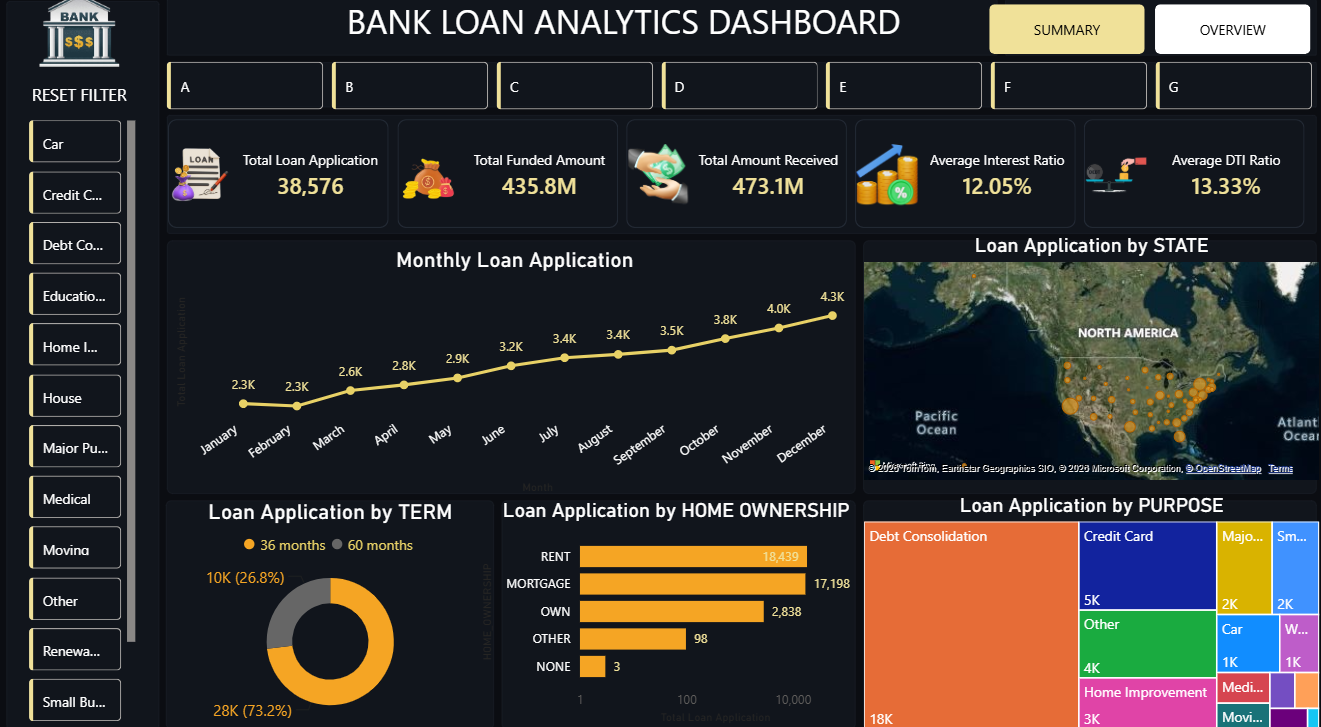

Layout of this report page (visuals, bound fields, positions):
{"tool":"powerbi","page":{"name":"OVERVIEW","canvas":[1280,720],"ordinal":1},"visuals":[{"type":"cardVisual","fields":{"Data":["financial_loan.TOTAL LOAN APPLICATION","financial_loan.TOTAL FUNDED AMOUNT","financial_loan.TOTAL RECEIVED","financial_loan.AVERAGE INTEREST RATE","financial_loan.AVERAGE DTI RATE"]},"box":[147.2,105,1132.8,139.9],"z":0},{"type":"image","box":[9.7,0,137.5,71.2],"z":11000},{"type":"advancedSlicerVisual","fields":{"Values":["financial_loan.GRADE"]},"box":[158,61.5,1122,56.7],"z":12000},{"type":"advancedSlicerVisual","fields":{"Values":["financial_loan.PURPOSE"]},"box":[25.3,118.2,112.2,592.4],"z":13000},{"type":"actionButton","box":[9.7,77.2,137.5,41],"z":14000},{"type":"textbox","box":[331.8,0,604.4,61.5],"z":15000},{"type":"pageNavigator","box":[956.7,10.9,311.3,48.3],"z":15001},{"type":"lineChart","title":"Monthly Loan Application","fields":{"Category":["financial_loan.ISSUE_DATE.Variation.Date Hierarchy.Month"],"Y":["financial_loan.Total Loan Application"]},"box":[166.5,244.9,664.7,243.7],"z":15002},{"type":"donutChart","title":" Loan Application by TERM","fields":{"Category":["financial_loan.TERM"],"Y":["financial_loan.Total Loan Application"]},"box":[158,488.6,325.7,222],"z":15003},{"type":"clusteredBarChart","title":" Loan Application by HOME OWNERSHIP","fields":{"Category":["financial_loan.HOME_OWNERSHIP"],"Y":["financial_loan.Total Loan Application"]},"box":[462.1,488.6,384.9,222],"z":15004},{"type":"treemap","title":" Loan Application by PURPOSE","fields":{"Group":["financial_loan.PURPOSE"],"Values":["financial_loan.Total Loan Application"]},"box":[831.2,483.8,448.8,231.6],"z":15005},{"type":"map","title":" Loan Application by  STATE","fields":{"Category":["financial_loan.ADDRESS_STATE"],"Size":["financial_loan.Total Loan Application"]},"box":[831.2,232.8,448.8,242.5],"z":15006}]}

Visuals, with their boxes on the page's 1280x720 design canvas (x1, y1, x2, y2). These are canvas units, not pixel positions in the 1321x727 screenshot, which may show the page scaled, cropped or inside an application window:
cardVisual - financial_loan.TOTAL LOAN APPLICATION x financial_loan.TOTAL FUNDED AMOUNT: Rect(147, 105, 1280, 245)
image: Rect(10, 0, 147, 71)
advancedSlicerVisual - financial_loan.GRADE: Rect(158, 62, 1280, 118)
advancedSlicerVisual - financial_loan.PURPOSE: Rect(25, 118, 138, 711)
actionButton: Rect(10, 77, 147, 118)
textbox: Rect(332, 0, 936, 62)
pageNavigator: Rect(957, 11, 1268, 59)
"Monthly Loan Application" lineChart: Rect(166, 245, 831, 489)
" Loan Application by TERM" donutChart: Rect(158, 489, 484, 711)
" Loan Application by HOME OWNERSHIP" clusteredBarChart: Rect(462, 489, 847, 711)
" Loan Application by PURPOSE" treemap: Rect(831, 484, 1280, 715)
" Loan Application by  STATE" map: Rect(831, 233, 1280, 475)
